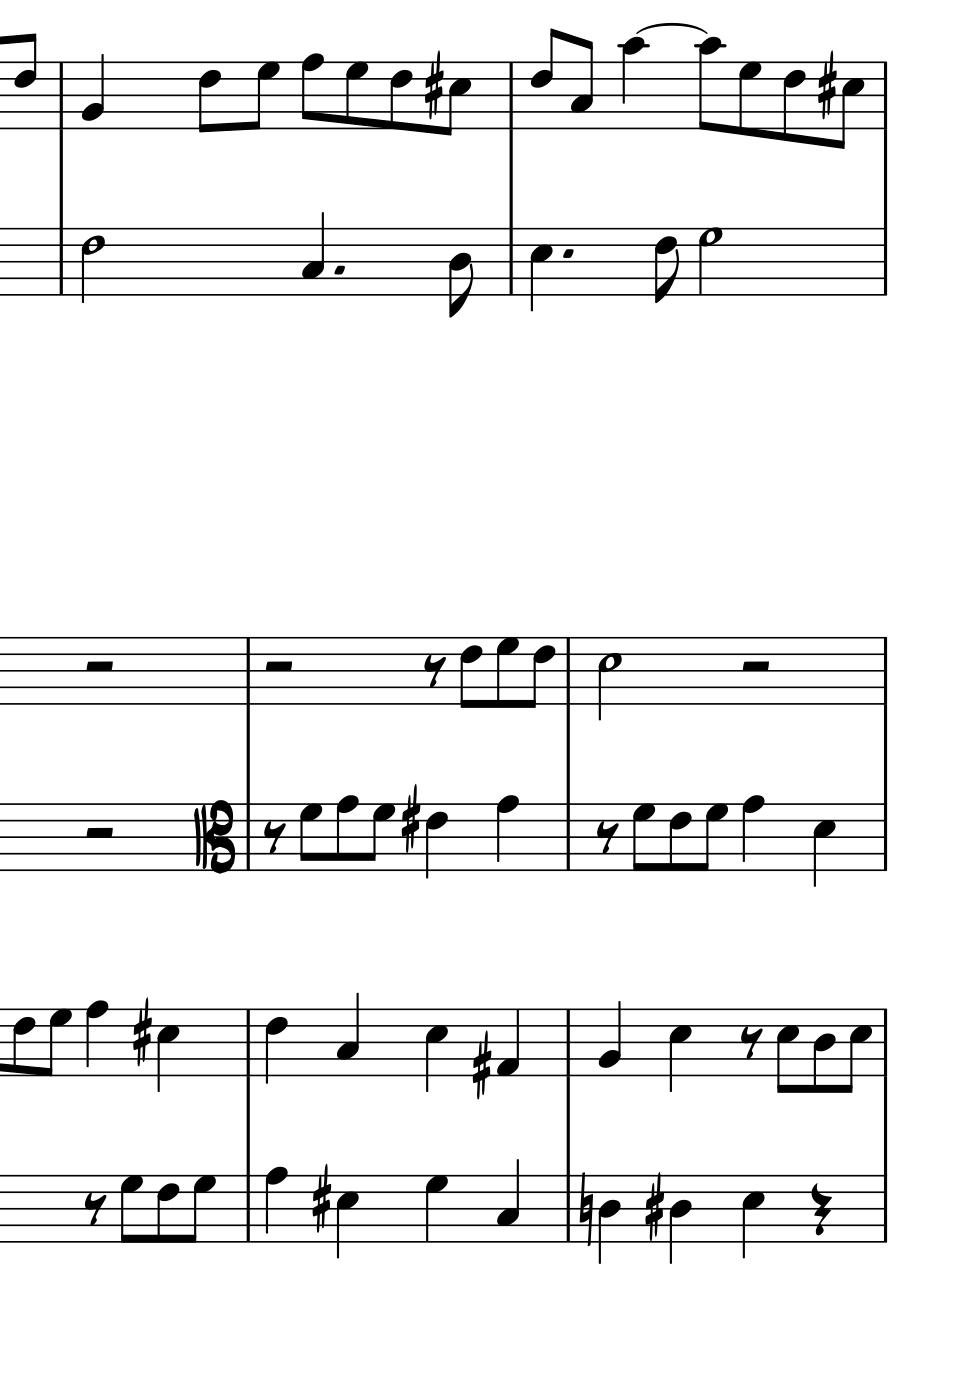2_5: (595, 635, 622, 722)
2_6: (80, 226, 105, 305)
2_7: (696, 226, 722, 296)
4_1: (495, 1008, 520, 1078)
4_10: (618, 35, 647, 131)
4_2: (81, 53, 107, 131), (596, 1000, 622, 1077)
4_3: (300, 211, 326, 299), (335, 993, 360, 1077), (495, 1158, 520, 1243)
4_4: (596, 1173, 620, 1267), (667, 1173, 692, 1265)
4_5: (155, 1007, 180, 1095), (527, 226, 553, 313), (666, 1008, 692, 1094), (334, 1173, 358, 1261), (423, 1008, 448, 1094), (740, 1174, 765, 1260), (811, 802, 835, 890)
4_6: (423, 802, 448, 880), (263, 1008, 287, 1085)
4_7: (423, 1173, 449, 1243)
4_8: (262, 1165, 288, 1244), (83, 1000, 108, 1078), (494, 794, 519, 873), (740, 793, 764, 872)
8_10: (695, 36, 724, 134)
8_3: (568, 37, 594, 131)
8_4: (447, 226, 475, 318), (811, 1007, 836, 1095)
8_5: (834, 59, 865, 150), (841, 1007, 872, 1095), (774, 1006, 799, 1096), (442, 60, 471, 137)
8_6: (528, 27, 559, 131), (12, 31, 37, 131), (525, 635, 556, 710), (652, 226, 680, 306), (781, 60, 804, 144), (196, 59, 222, 134), (458, 635, 483, 710), (154, 1173, 179, 1245), (10, 1007, 35, 1078), (667, 802, 692, 873), (388, 60, 412, 131)
8_7: (245, 59, 279, 130), (183, 1173, 215, 1243), (696, 801, 727, 872), (40, 1007, 70, 1077), (735, 60, 762, 136), (365, 802, 393, 871), (343, 60, 369, 130), (494, 635, 519, 709), (118, 1173, 143, 1244), (297, 802, 322, 872), (631, 802, 657, 872)
8_8: (299, 51, 325, 131), (334, 794, 358, 873)
Cclef: (193, 799, 235, 874)
Natural: (577, 1168, 594, 1247)
Rests2: (81, 825, 118, 843), (260, 657, 296, 676), (81, 659, 117, 676), (738, 659, 773, 676)
Rests4: (809, 1181, 832, 1238)
Rests8: (261, 819, 287, 855), (593, 820, 619, 855), (82, 1191, 107, 1227), (421, 653, 447, 688), (738, 1025, 763, 1060)
Sharp: (309, 1164, 332, 1235), (469, 1031, 492, 1100), (643, 1173, 664, 1244), (130, 998, 152, 1068), (422, 53, 444, 118), (399, 785, 420, 853), (816, 54, 837, 119)
Single_barline: (559, 1175, 577, 1242), (239, 638, 257, 704), (560, 637, 577, 705), (240, 1174, 257, 1242), (876, 803, 893, 870), (240, 1010, 257, 1076), (559, 1010, 576, 1076), (559, 803, 576, 869), (876, 1176, 893, 1242), (877, 1008, 893, 1077), (53, 62, 69, 129), (503, 62, 519, 129), (240, 803, 256, 871), (53, 228, 69, 295), (503, 228, 519, 294), (877, 62, 892, 130), (877, 228, 892, 295), (877, 637, 892, 704)
Slur: (638, 21, 707, 36)
dot: (561, 246, 575, 260), (331, 262, 345, 276)
